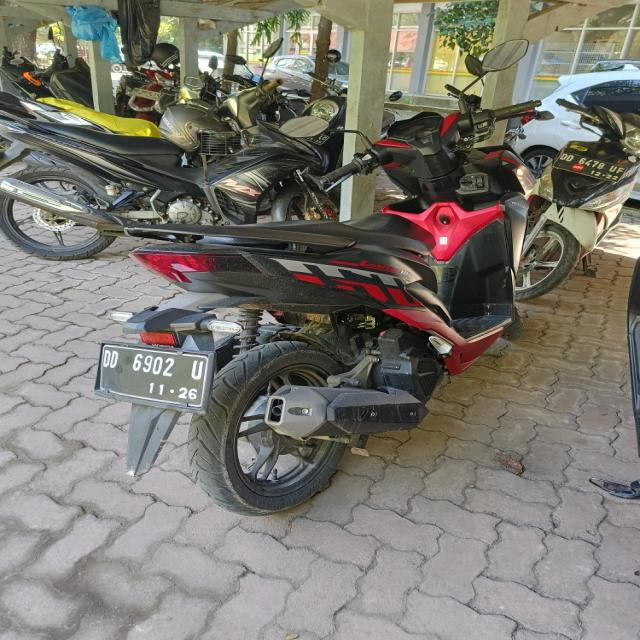plates: (90, 346, 211, 406)
